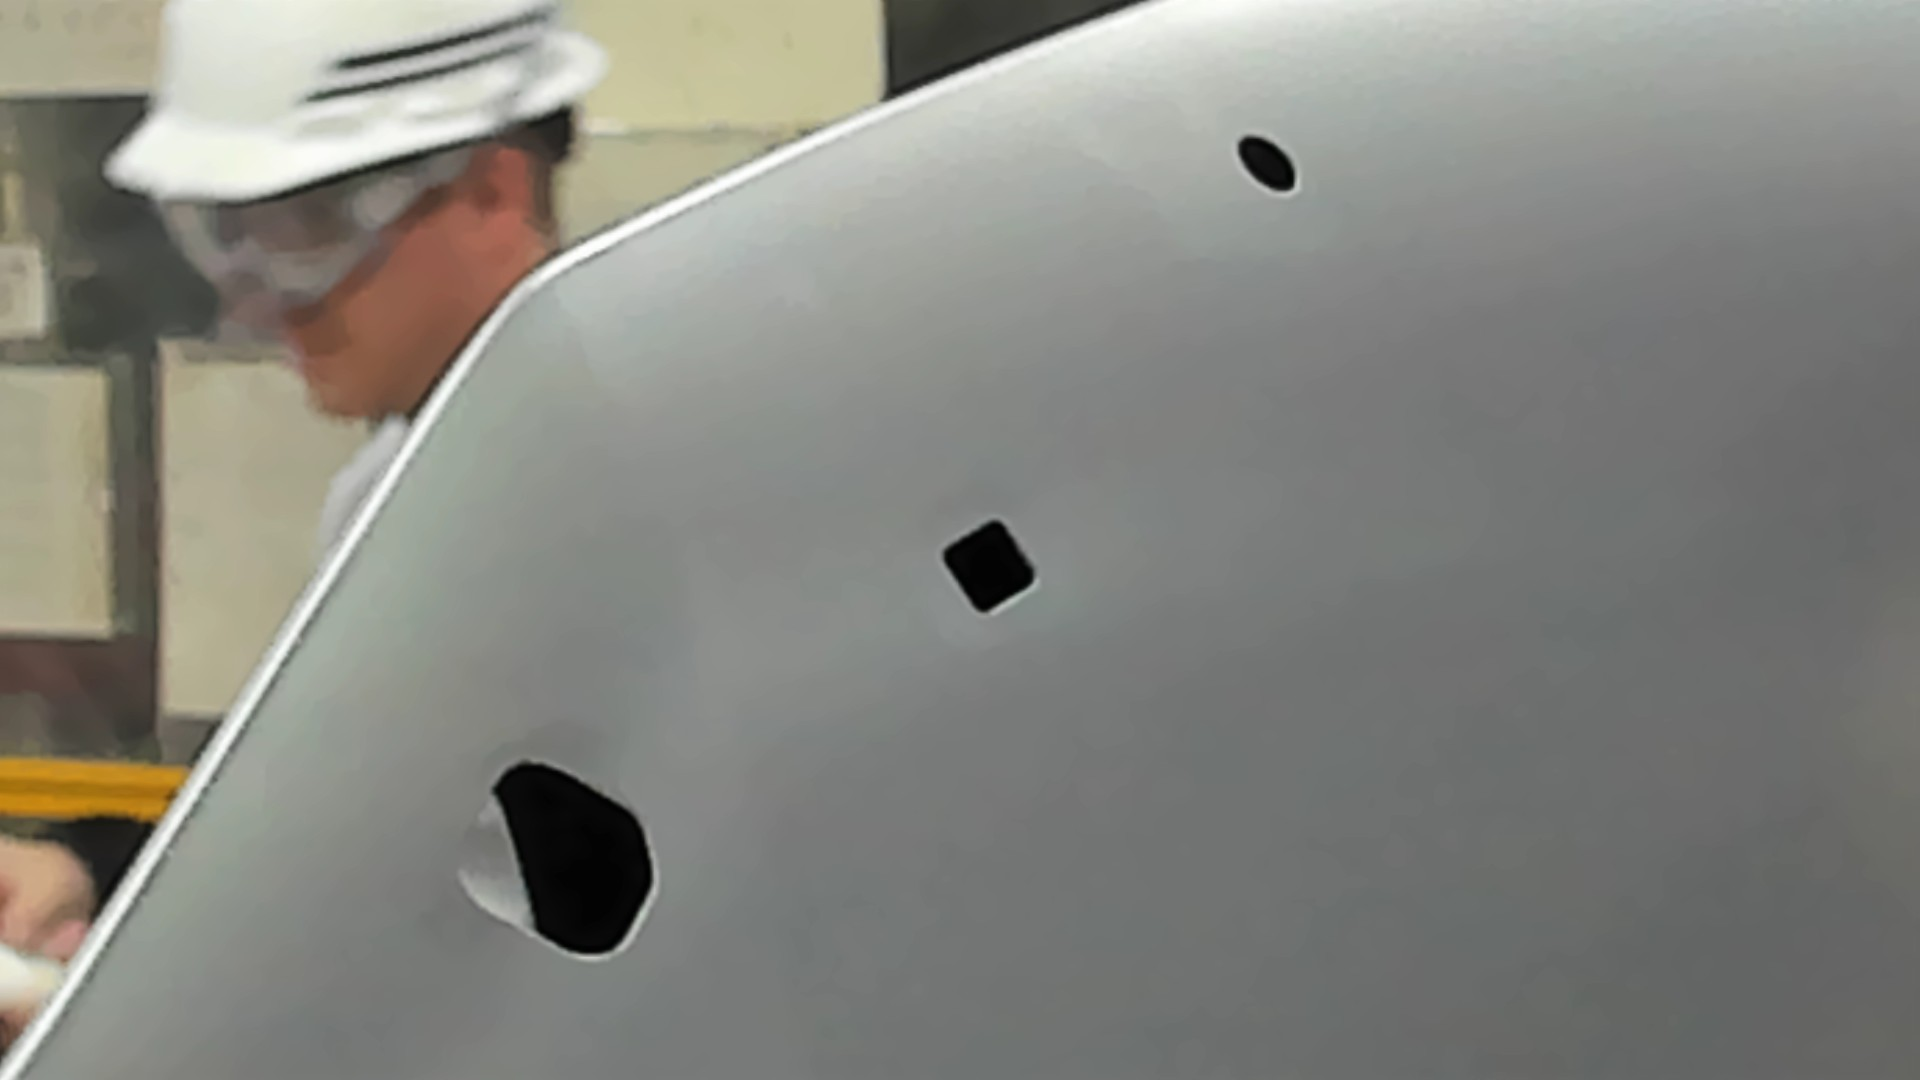chico: (1234, 129, 1302, 196)
grande: (452, 757, 662, 965)
mediano: (939, 516, 1040, 620)
